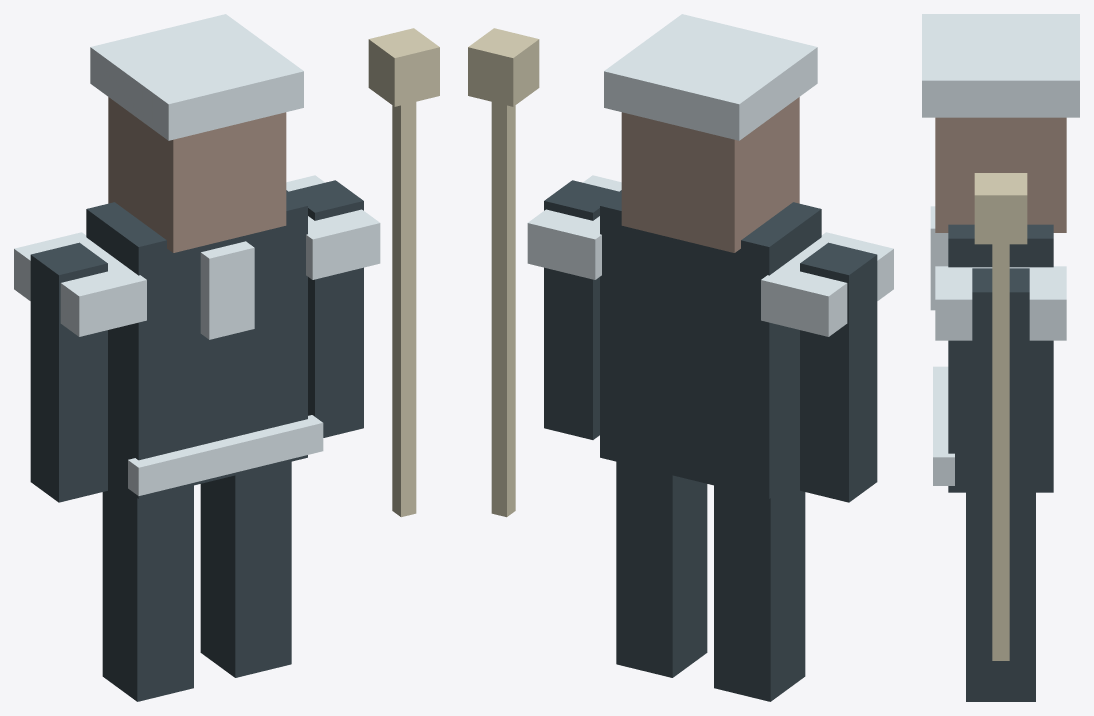
The model's file is 20_selka_runeclasp_guide_of_prototype.glb.
The picture shows the model from 3 angles, left to right: view 1: azimuth 30°, elevation 25°; view 2: azimuth 150°, elevation 25°; view 3: azimuth 270°, elevation 25°; orthographic projection.
Parts seen in each view (by area): view 1: Selka Runeclasp, Guide of Prototype; view 2: Selka Runeclasp, Guide of Prototype; view 3: Selka Runeclasp, Guide of Prototype.
Part boxes in pixels (x1=…): Selka Runeclasp, Guide of Prototype: x1=14, y1=14, x2=439, y2=701; Selka Runeclasp, Guide of Prototype: x1=468, y1=14, x2=893, y2=701; Selka Runeclasp, Guide of Prototype: x1=922, y1=14, x2=1079, y2=701.
Bounding box in the file's own units: 0.9927 × 1.52 × 0.3521.
